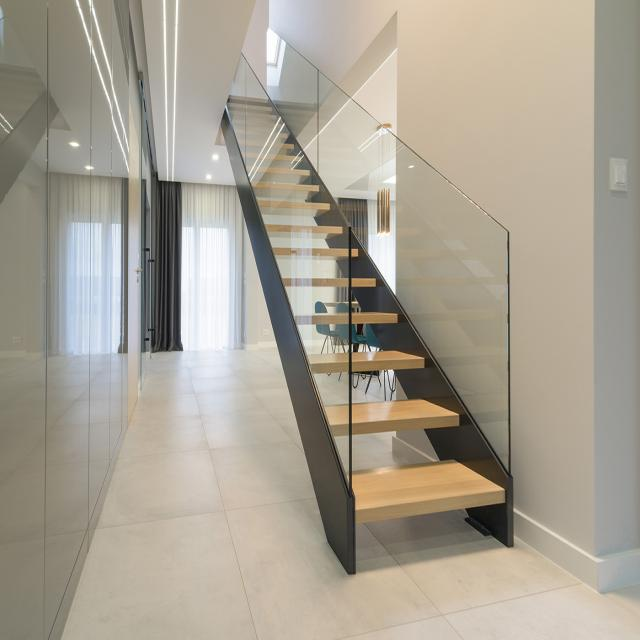stairs: (218, 75, 512, 560)
